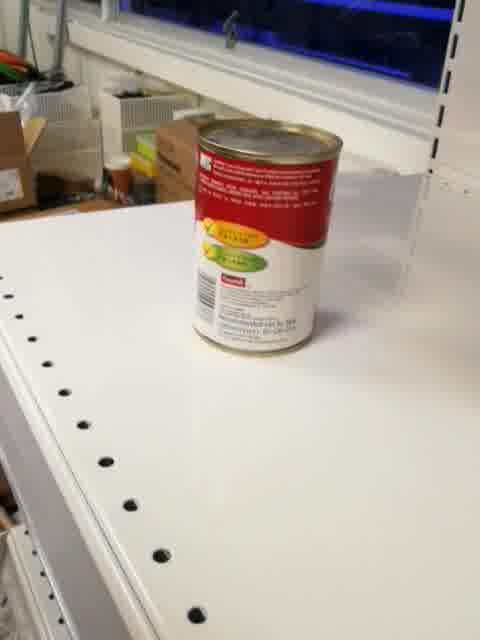tomatosoup: (190, 117, 346, 359)
